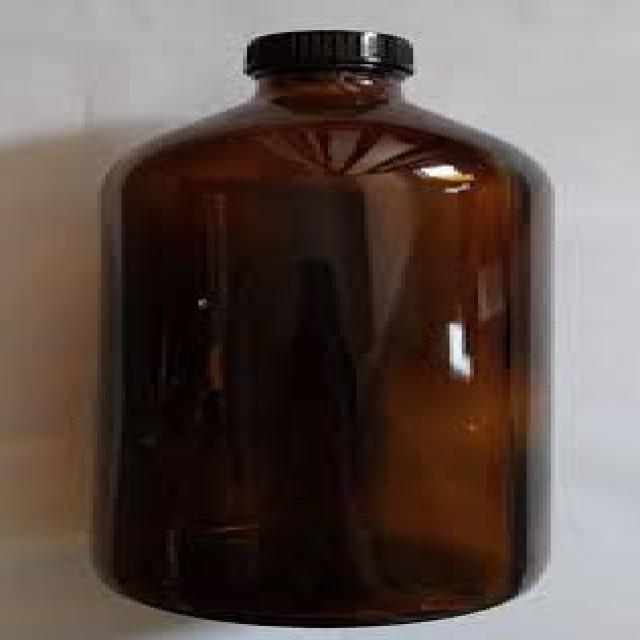Glass: (95, 72, 554, 630)
